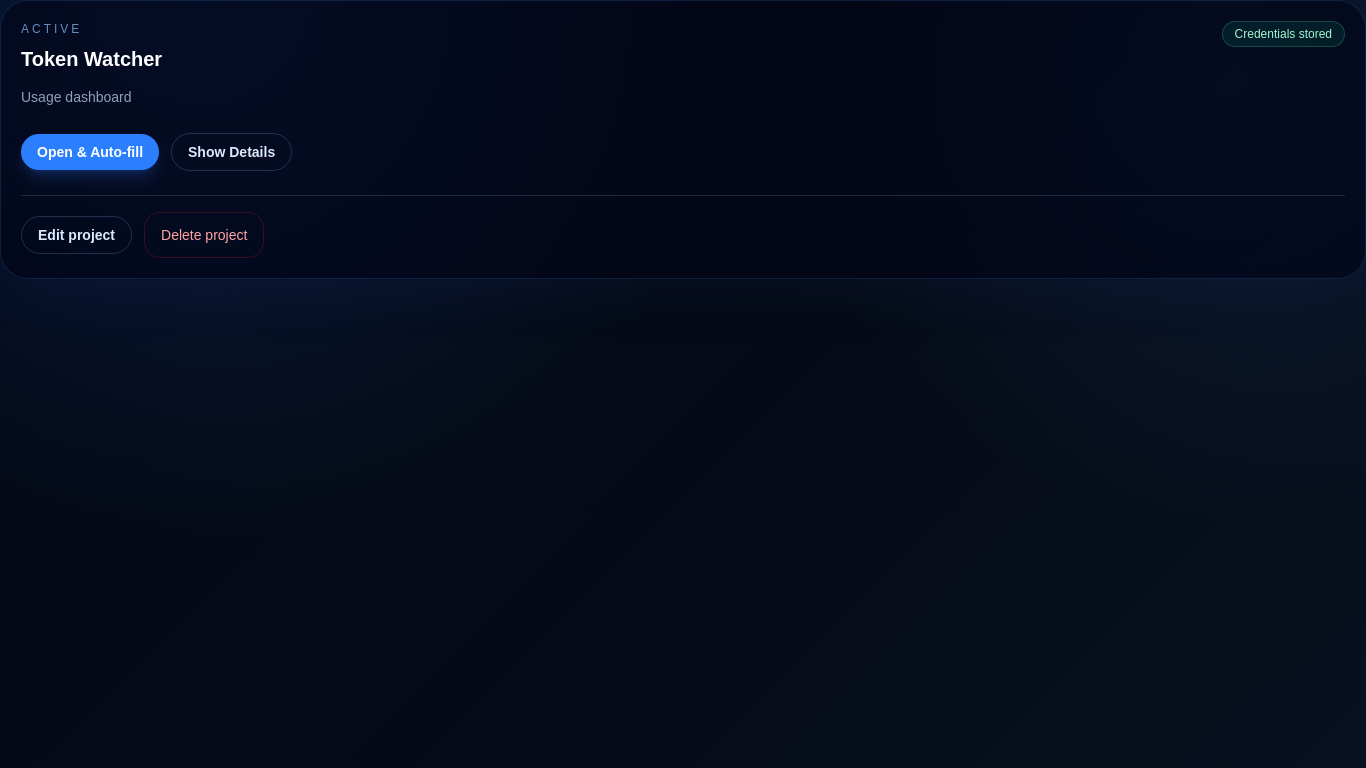
ProjectCard › opens a separate modal confirmation alert before deleting a project
Click the button "Delete project" at [204, 235], box x1=144 y1=212 x2=264 y2=258
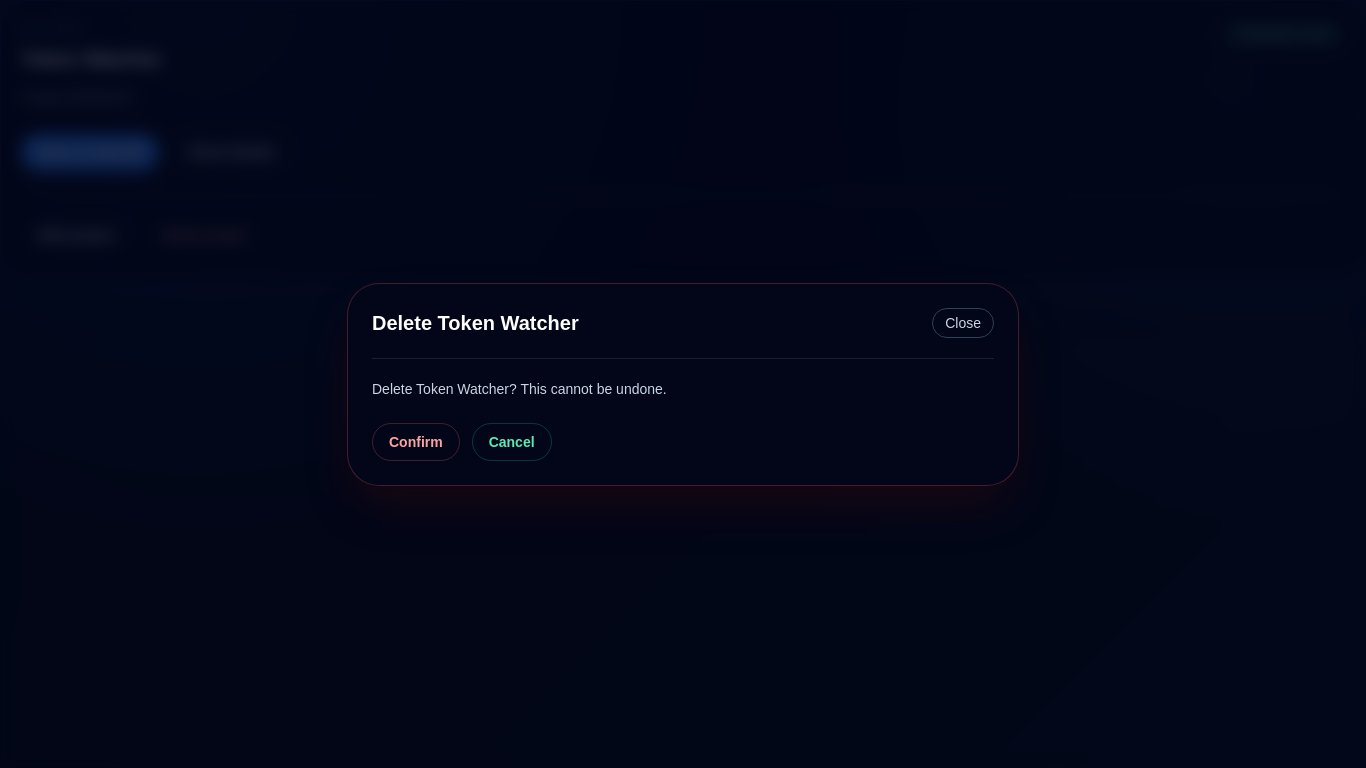
Now the dialog "Delete Token Watcher" shows "Delete Token Watcher? This cannot be undone.", box x1=372 y1=380 x2=667 y2=396
Click the button "Cancel" at [512, 442], box x1=472 y1=422 x2=552 y2=460
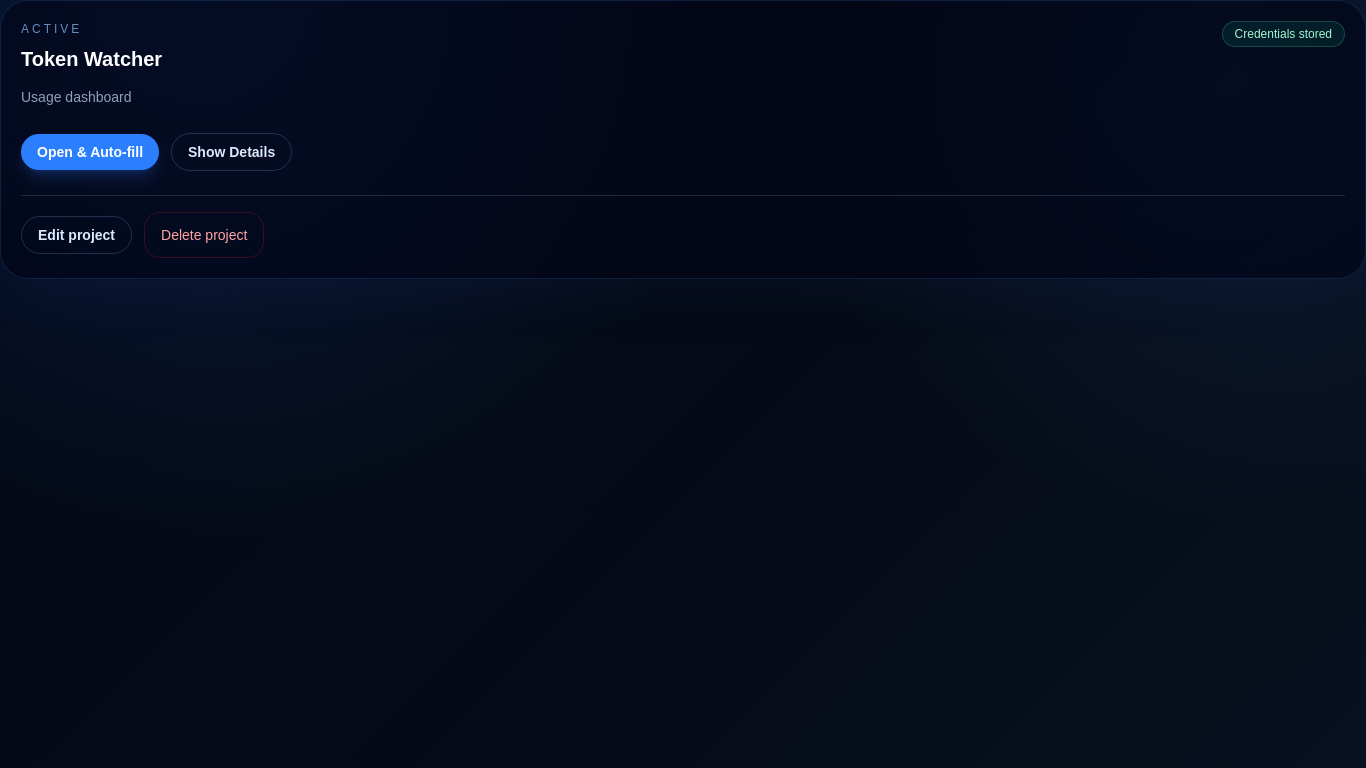
Now the heading "Delete Token Watcher" is gone
